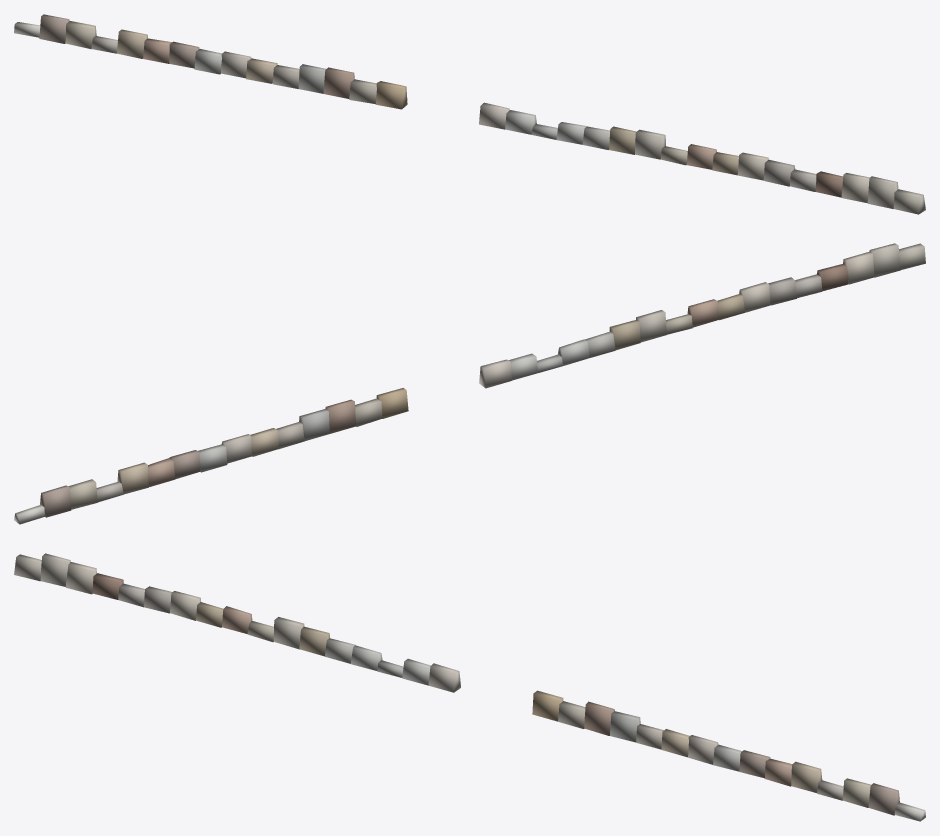
File: farm_2_8_far.glb
The picture shows the model from 3 angles, top to bottom: view 1: azimuth 90°, elevation 25°; view 2: azimuth 150°, elevation 25°; view 3: azimuth 270°, elevation 25°; orthographic projection.
Visible parts, largest first — view 1: geometry_0; view 2: geometry_0; view 3: geometry_0.
Boxes of the visible parts, x1,y1,x2,y2 form: geometry_0: (14, 14, 925, 214); geometry_0: (14, 243, 925, 524); geometry_0: (14, 553, 925, 821).
Bounding box in the file's own units: 27.26 × 3.29 × 47.96.
